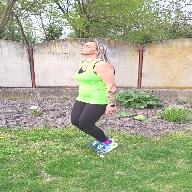high_jumps: (71, 37, 128, 159)
